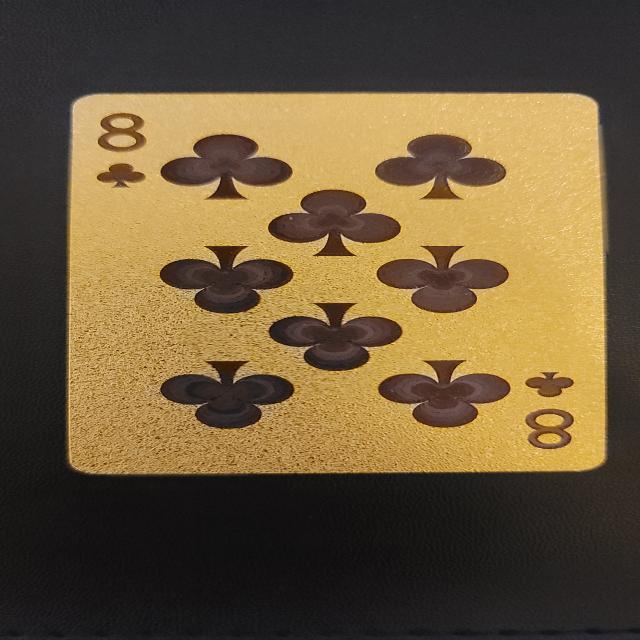8 of clubs: (67, 93, 608, 475)
